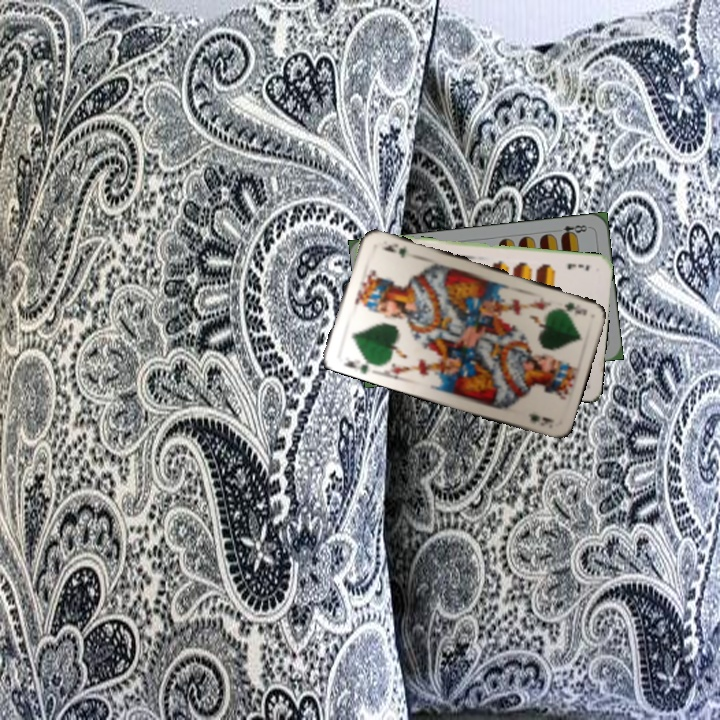E7: (564, 259, 592, 273)
E8: (552, 221, 592, 240)
GK: (339, 355, 377, 376), (551, 298, 590, 318)
